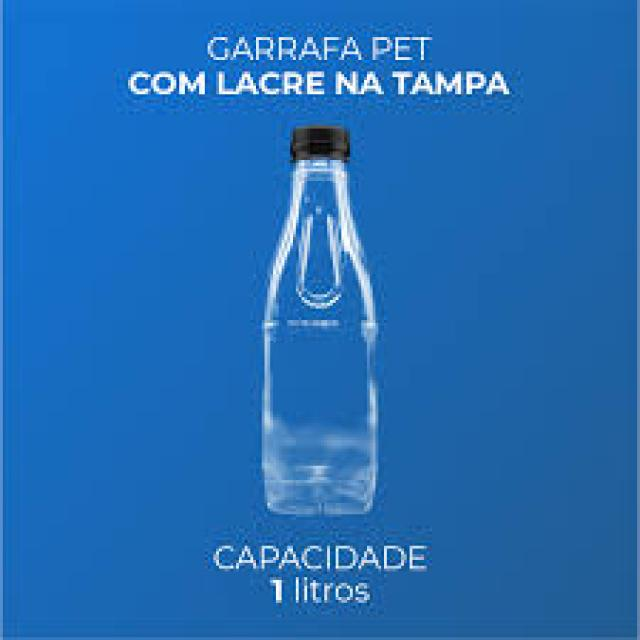bottom: (259, 464, 392, 521)
cap: (283, 120, 355, 178)
